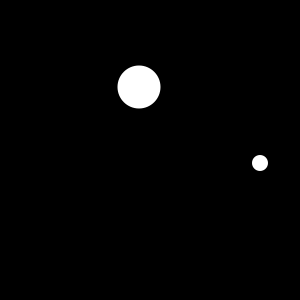rectangle: (118, 66, 160, 108), (252, 155, 268, 171)
